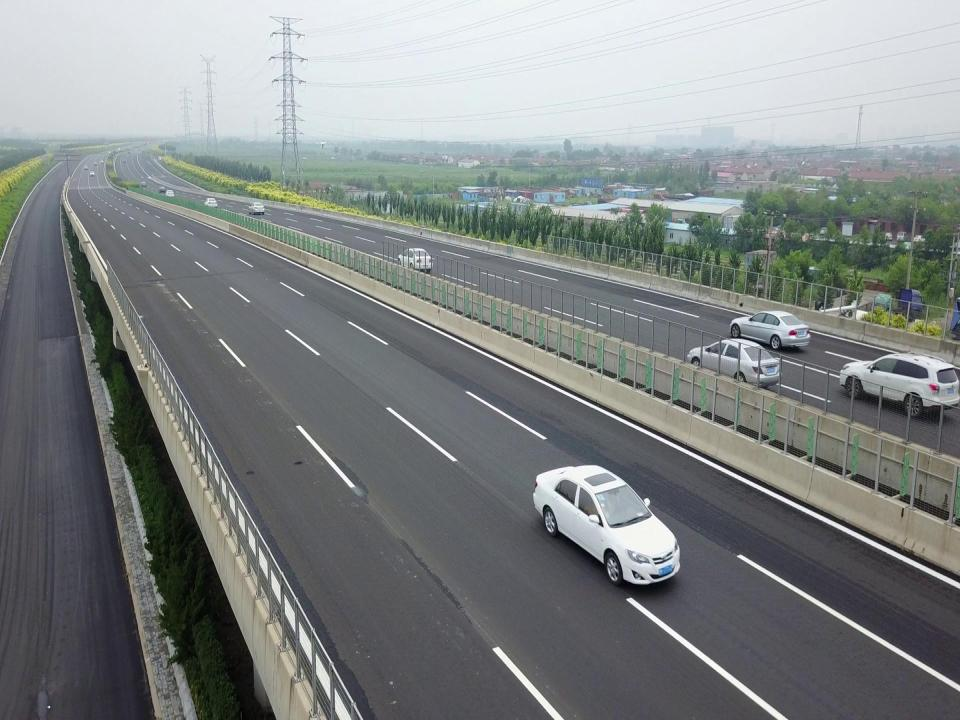car: (532, 463, 680, 588), (840, 348, 960, 418), (687, 338, 782, 391), (728, 310, 810, 351), (398, 248, 433, 272), (248, 202, 264, 215), (204, 197, 218, 210), (912, 234, 926, 243), (884, 231, 893, 242), (164, 190, 175, 197), (820, 226, 828, 235), (140, 181, 146, 187), (159, 187, 166, 192)
truck: (868, 290, 926, 326)
van: (896, 230, 908, 242)
